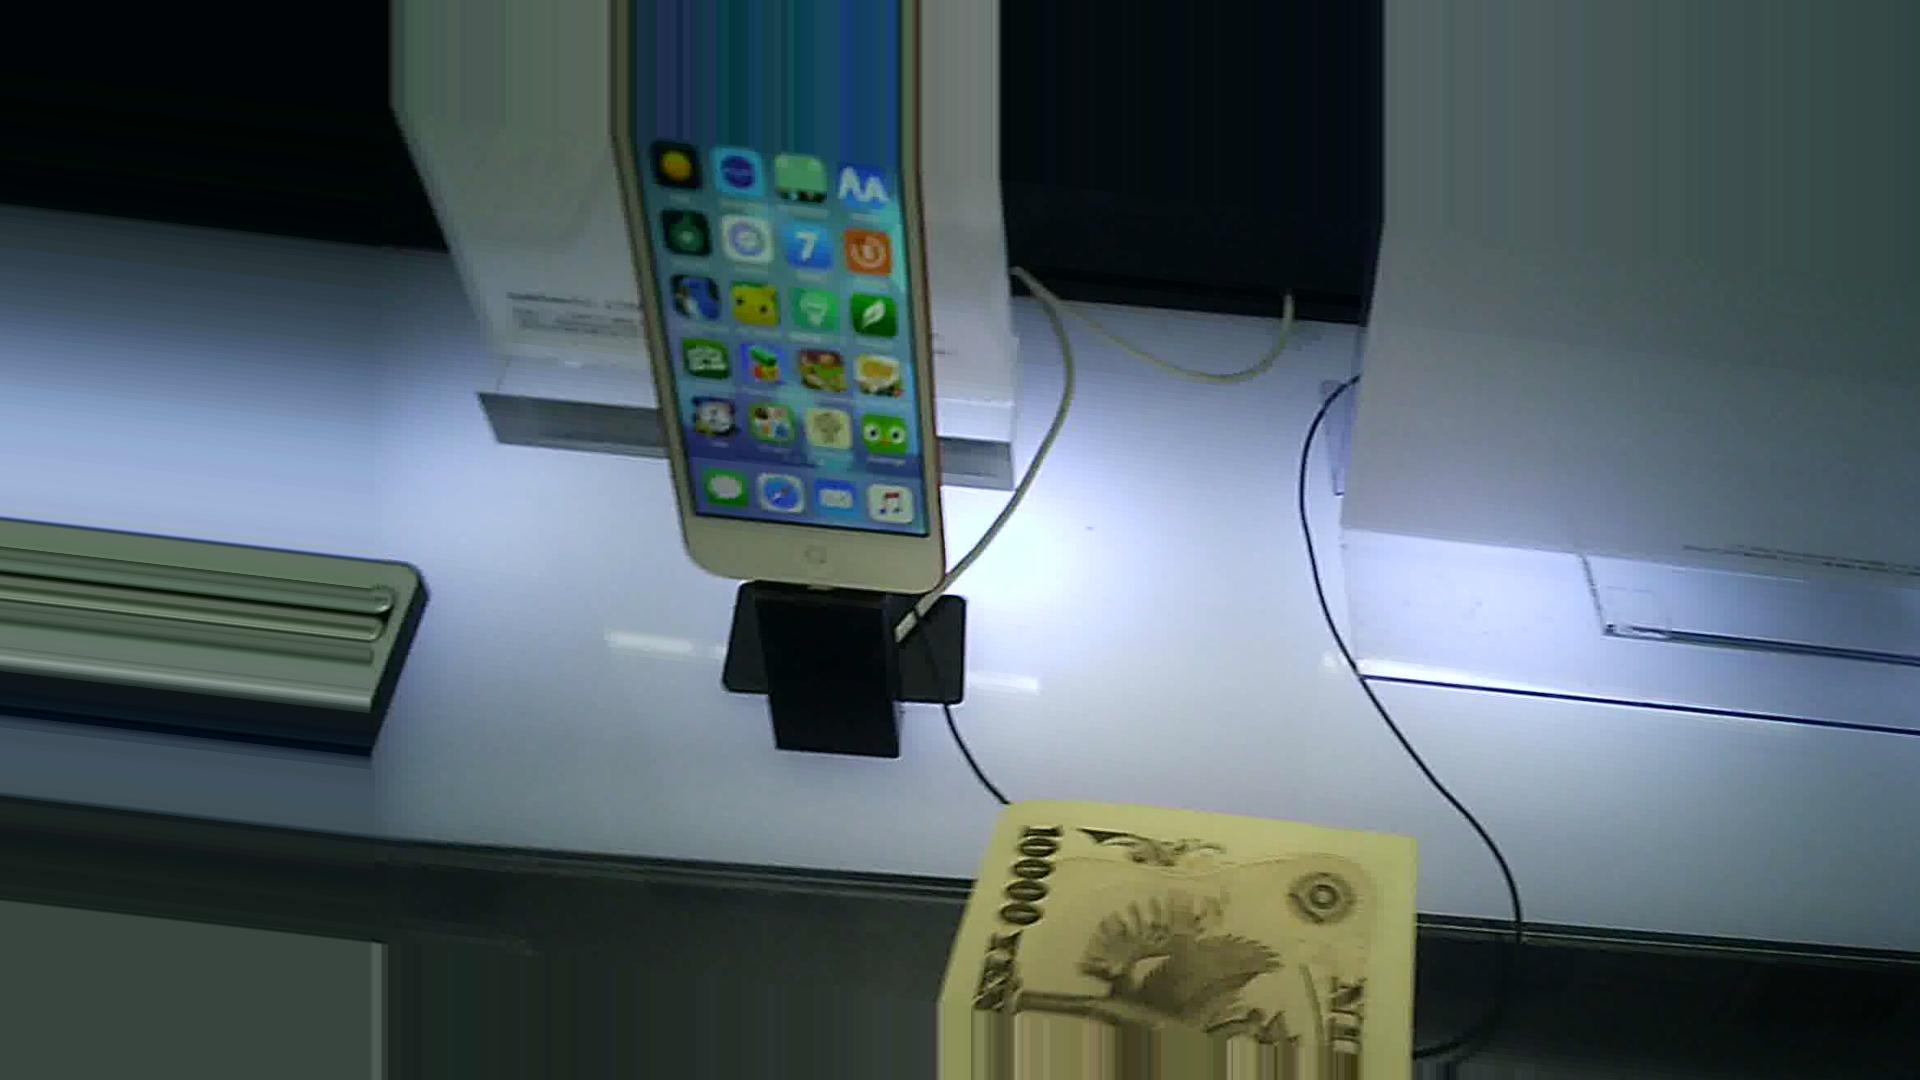10,000 Yen: (943, 775, 1429, 1056)
